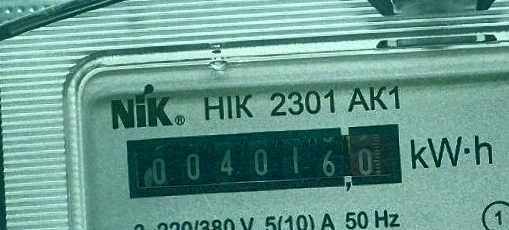0: (249, 143, 272, 179), (148, 152, 170, 186), (182, 148, 203, 183), (353, 144, 375, 176)
1: (287, 141, 304, 175)
4: (216, 144, 236, 178)
6: (317, 144, 338, 177)
screen: (118, 116, 411, 206)
